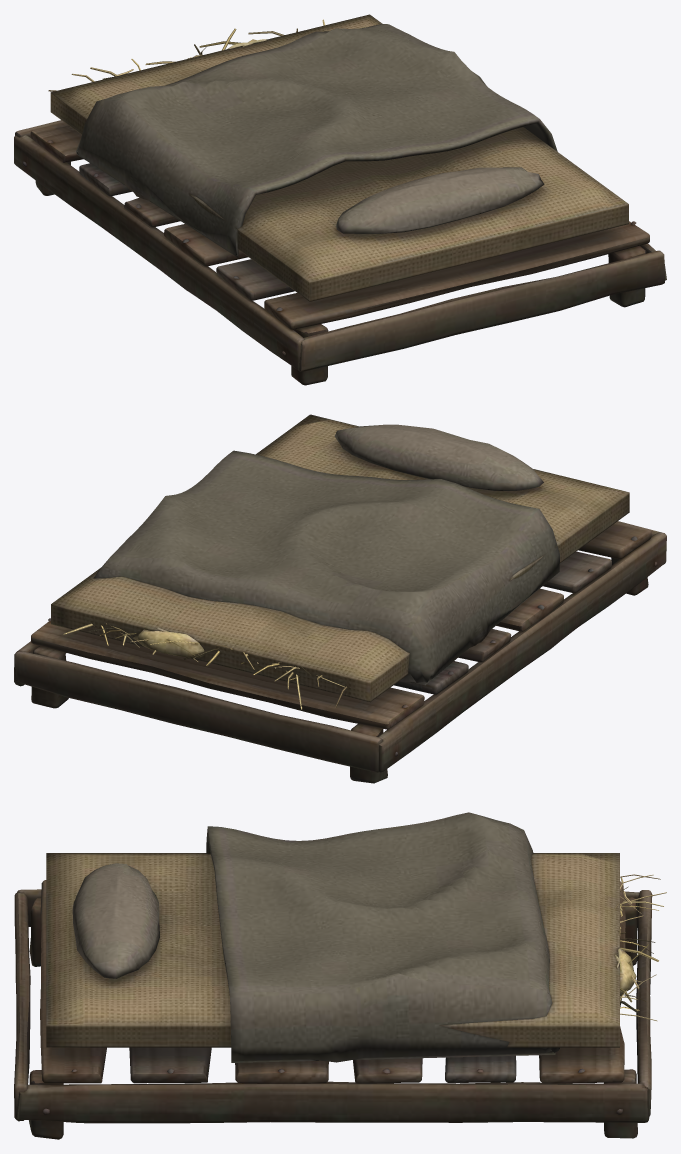
The model's file is bed.glb.
The picture shows the model from 3 angles, top to bottom: view 1: azimuth 30°, elevation 25°; view 2: azimuth 150°, elevation 25°; view 3: azimuth 270°, elevation 25°; orthographic projection. The views are drawn at different scales.
Visible parts, largest first — view 1: bed; view 2: bed; view 3: bed.
Part boxes in pixels (x1,y1,x2,y2): bed: [14, 14, 666, 385]; bed: [14, 414, 666, 783]; bed: [14, 812, 666, 1139].
Size of the model in its own units: 0.7499 by 0.268 by 1.02.
Materials: 1 (1 with a texture image).
